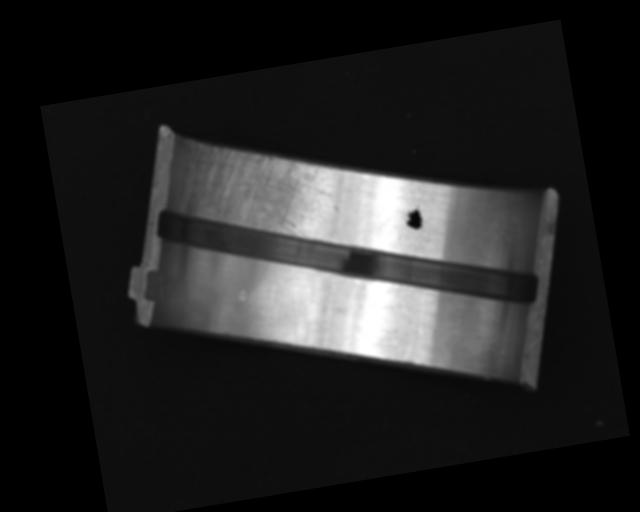blot: (401, 203, 425, 232)
bruise: (237, 287, 248, 301)
gap: (156, 151, 543, 361)
nick: (412, 288, 432, 334)
scratch: (183, 122, 342, 258)
